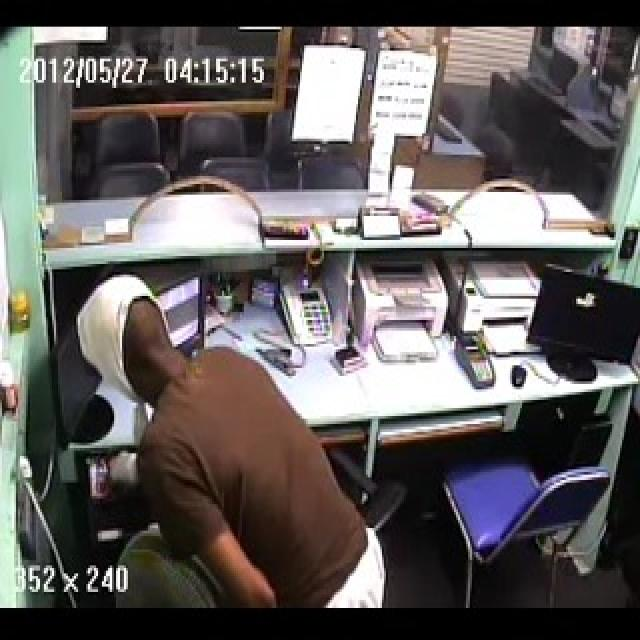thief: (61, 279, 386, 610)
